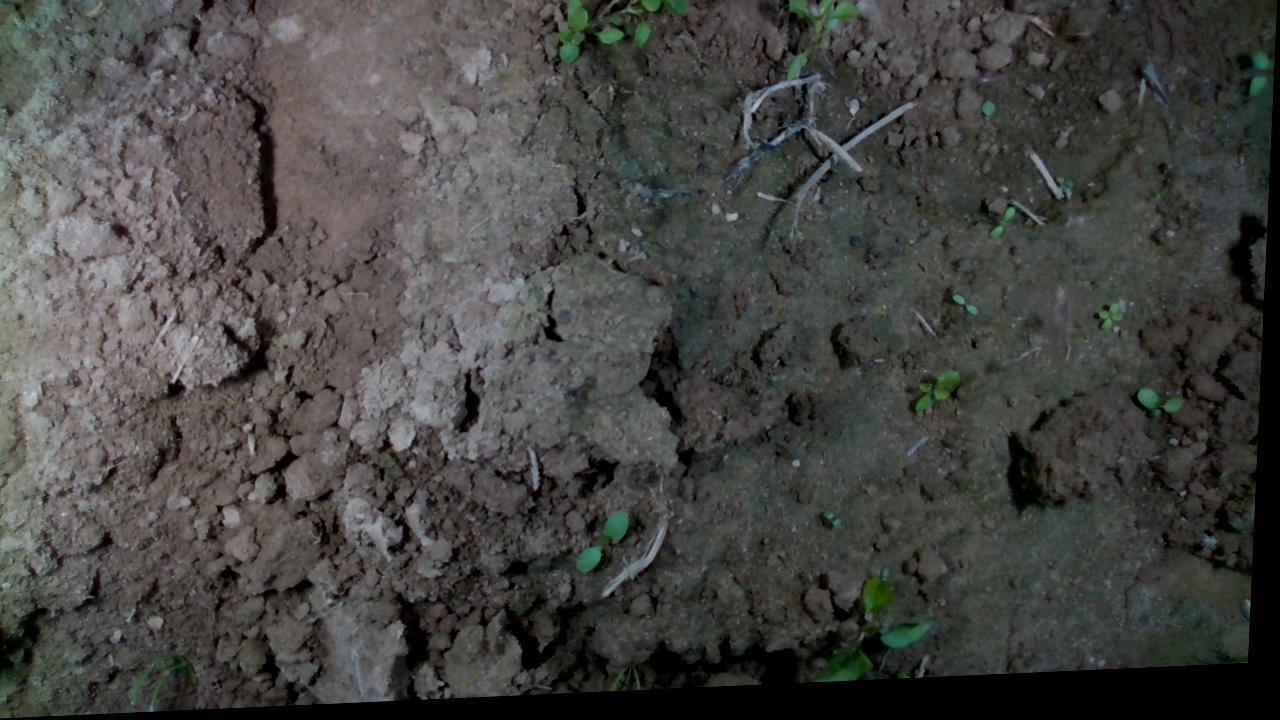weed: (578, 513, 635, 579), (916, 374, 964, 421), (1138, 395, 1189, 424), (1245, 58, 1271, 111), (1099, 309, 1128, 341), (951, 299, 982, 325)
